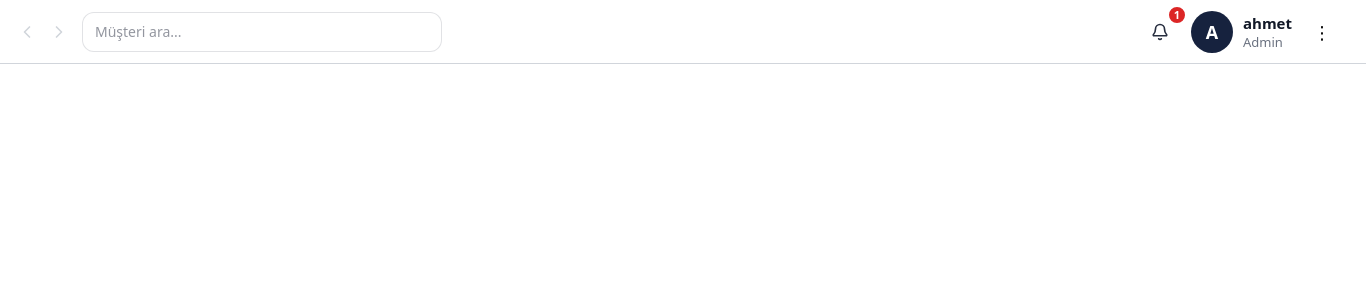
Header › user menu › toggles the dropdown and shows actions
Click the button "⋮": [1322, 32] box x1=1302 y1=14 x2=1342 y2=50
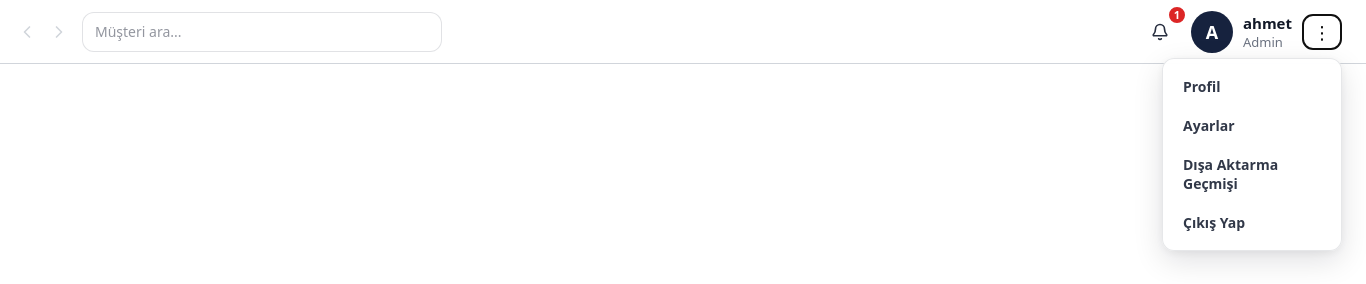
Check: the button "Profil" is shown, box x1=1171 y1=66 x2=1333 y2=106
Check: the button "Ayarlar" is shown, box x1=1171 y1=106 x2=1333 y2=144
Check: the button "Çıkış Yap" is shown, box x1=1171 y1=202 x2=1333 y2=242
